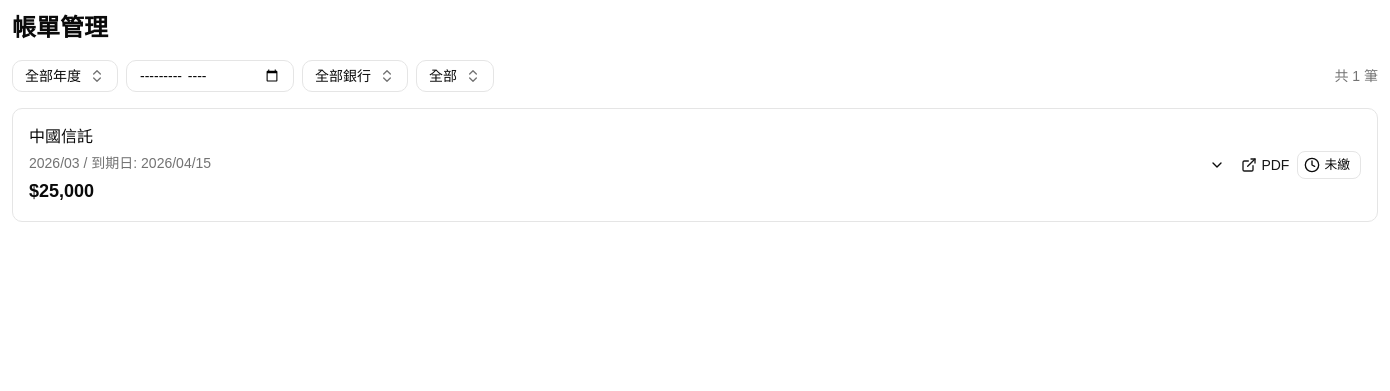
Test: BillsPage › expands bill row and shows transactions on chevron click
expect the text "中國信託" is shown: met, box [29,128,93,145]
Click the button named "展開 中國信託 帳單明細". click: (1217, 165)
box: [1201,149,1233,181]
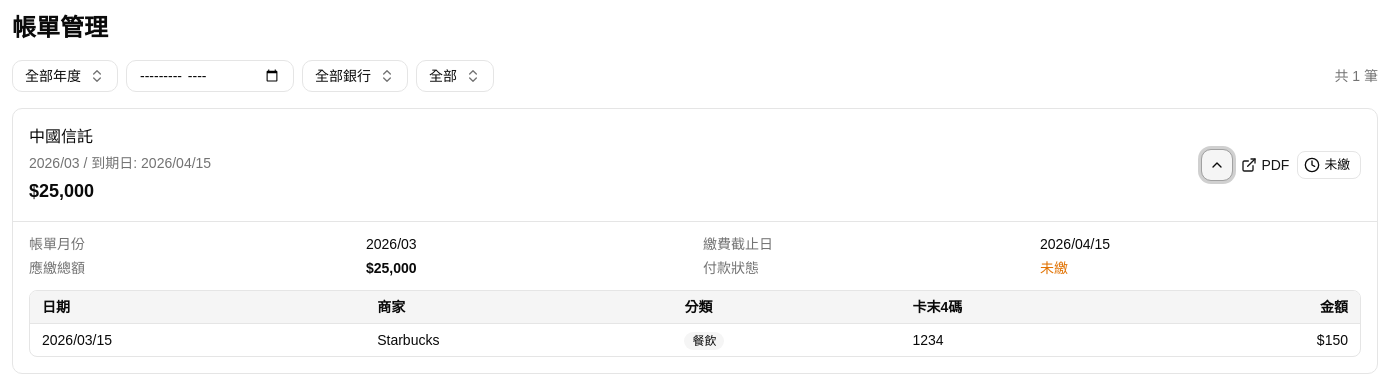
expect the text "Starbucks" is shown: met, box [365,324,672,356]
expect the text "餐飲" is shown: met, box [684,332,724,350]
